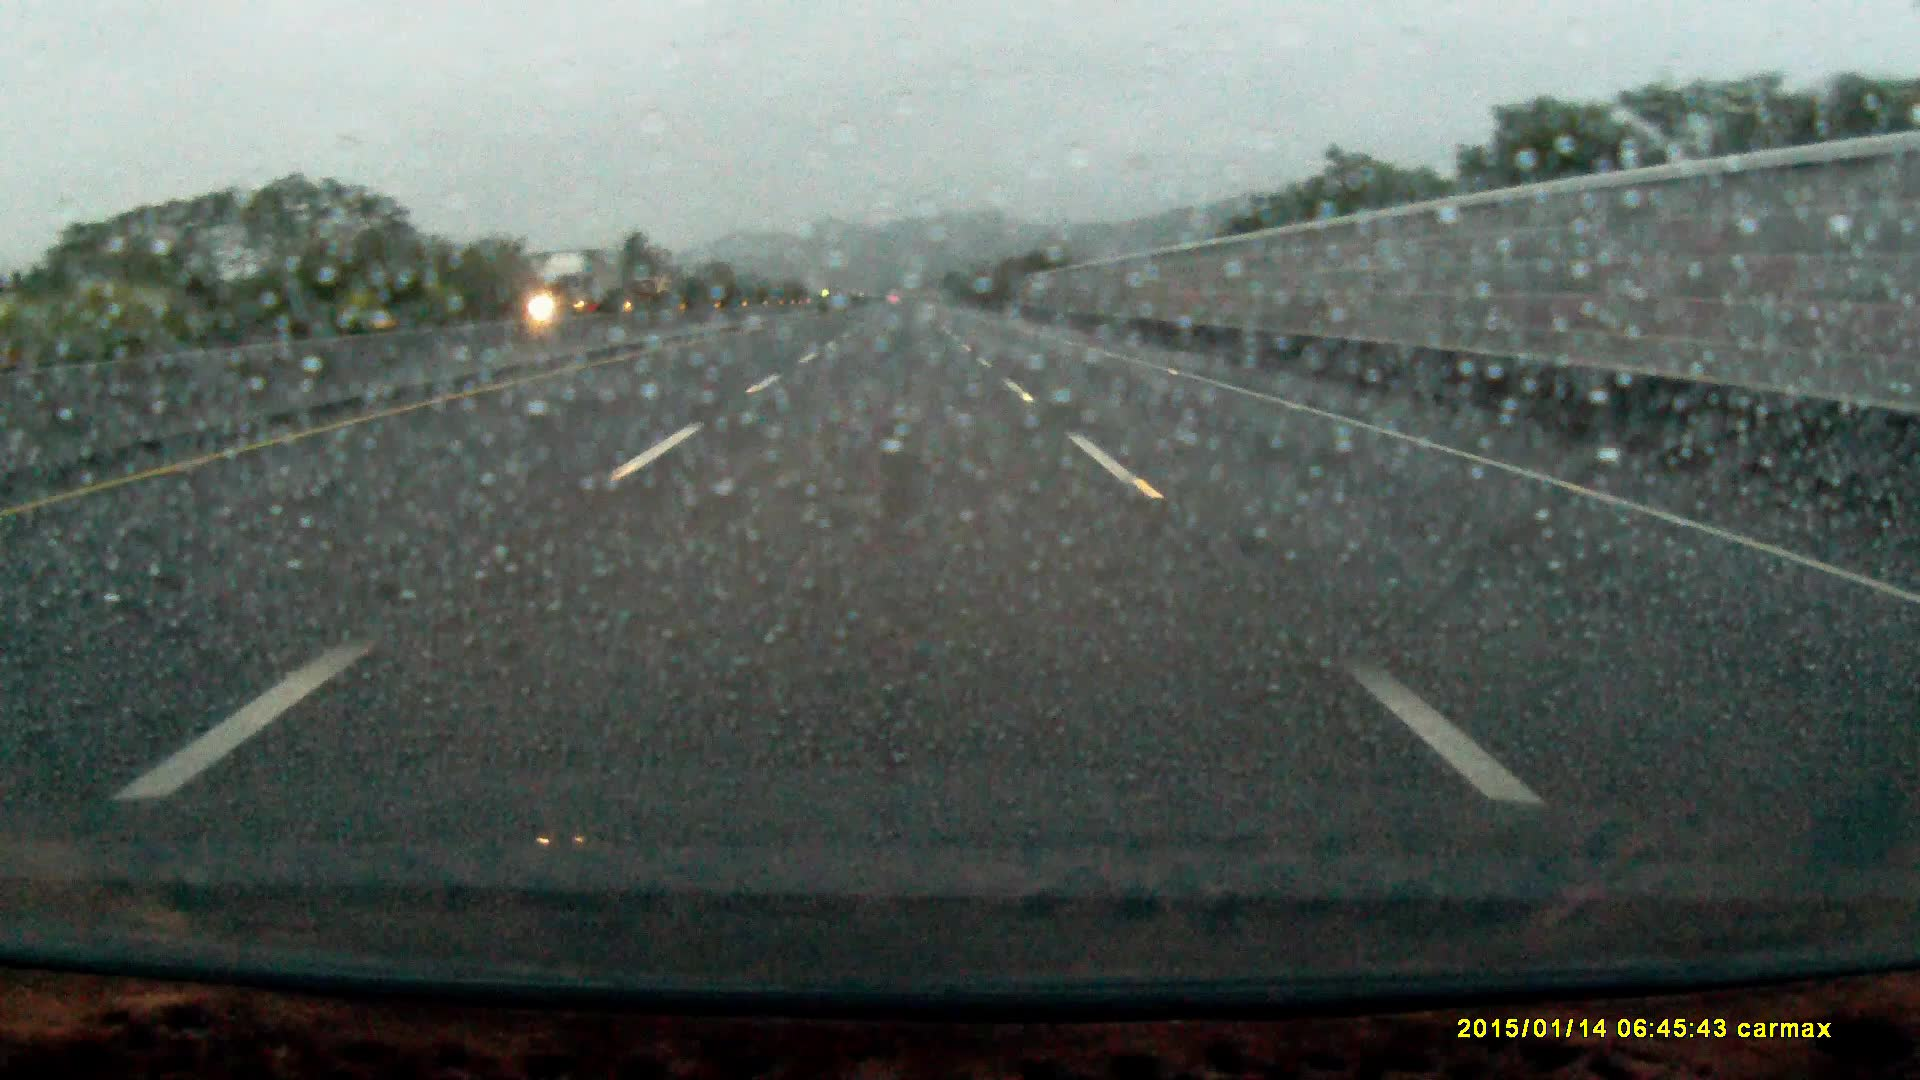vehicle: (527, 251, 630, 318)
